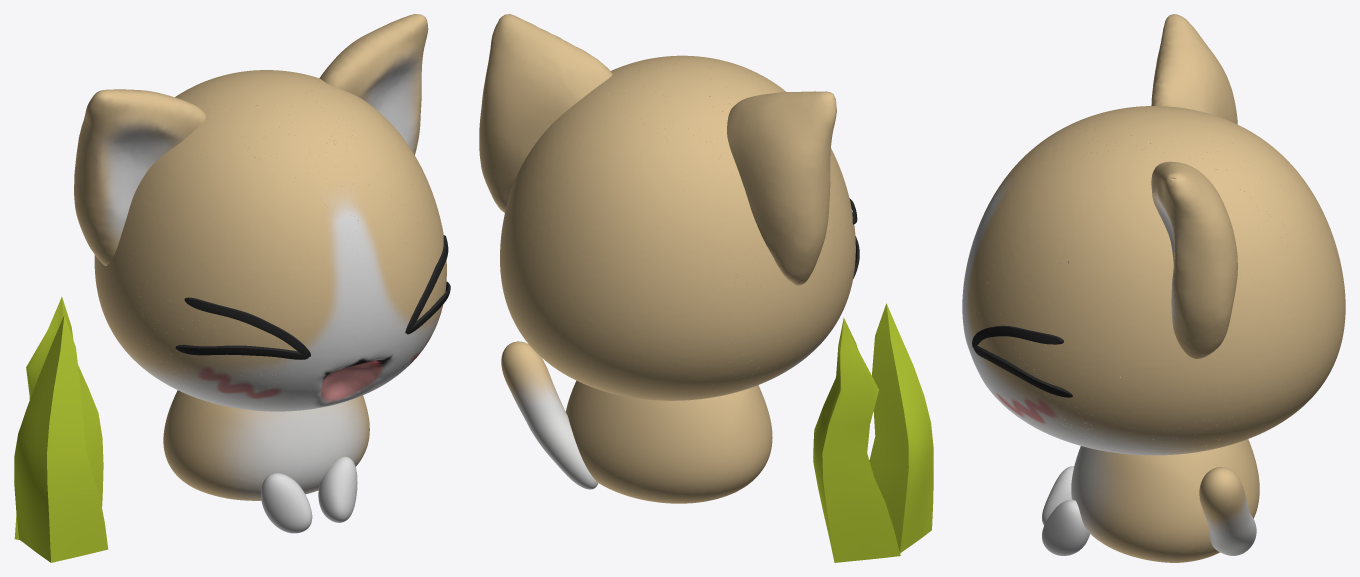
Rendered from cute_cat-transformed.glb.
3 renders of one model, left to right at view 1: azimuth 30°, elevation 25°; view 2: azimuth 150°, elevation 25°; view 3: azimuth 270°, elevation 25°, orthographic. The views are drawn at different scales.
Visible parts, largest first — view 1: Object_11, Object_5; view 2: Object_11, Object_5; view 3: Object_11.
Part boxes in pixels (x1,y1,x2,y2): Object_11: [74, 14, 450, 533]; Object_5: [14, 297, 108, 562]; Object_11: [479, 14, 859, 503]; Object_5: [813, 303, 933, 562]; Object_11: [962, 14, 1345, 562].
Size of the model in its own units: 3.46 by 3.51 by 2.69.
